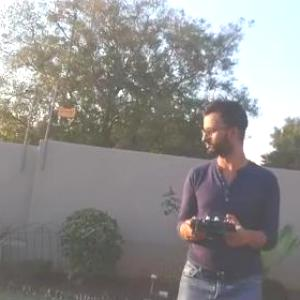follow: (174, 92, 292, 299)
